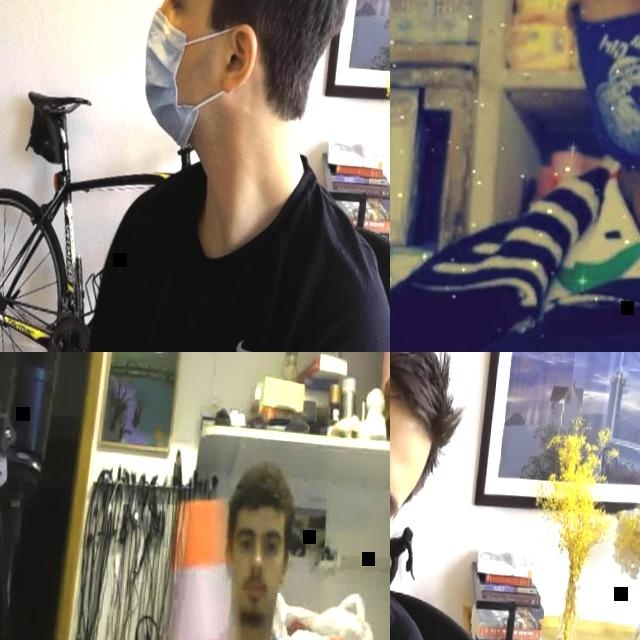Mask: (556, 0, 640, 202), (134, 5, 235, 159)
NO-Hardhat: (390, 352, 462, 448), (231, 465, 294, 521)
NO-Mask: (237, 578, 275, 622)
NO-Safety Vest: (108, 163, 359, 352), (390, 176, 640, 352)
Person: (46, 0, 390, 352), (390, 0, 640, 352), (114, 455, 351, 640), (390, 352, 500, 640)
Safety Cone: (119, 487, 299, 640)
